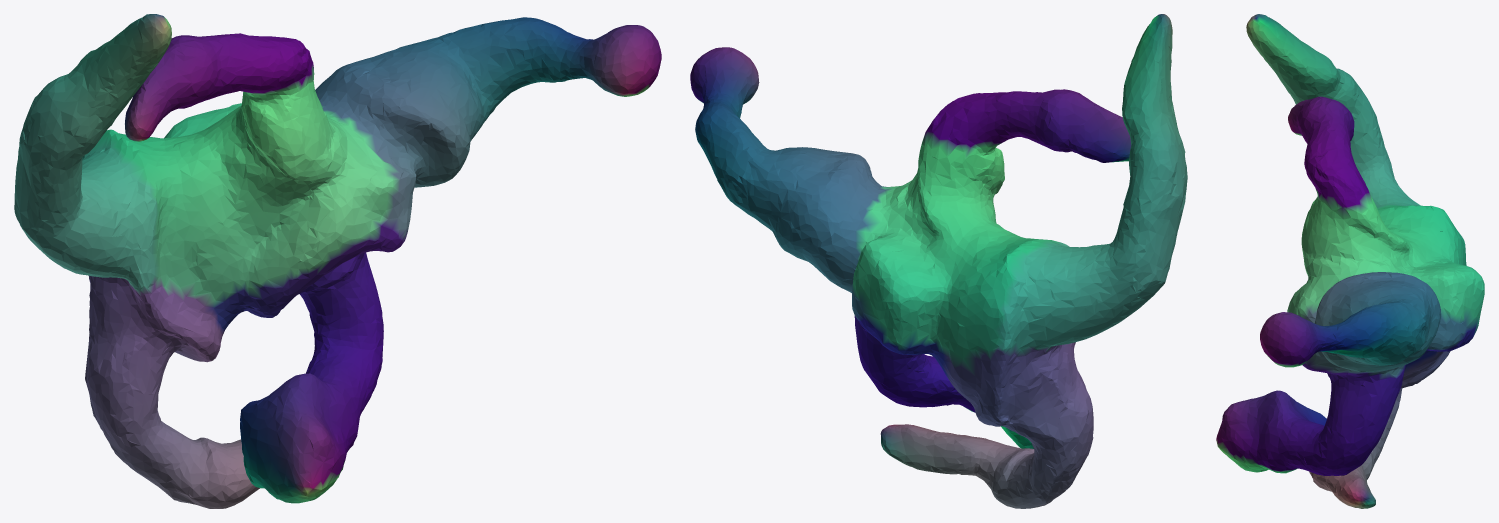
The model's file is santa-16.off.obj.
The picture shows the model from 3 angles, left to right: view 1: azimuth 30°, elevation 25°; view 2: azimuth 150°, elevation 25°; view 3: azimuth 270°, elevation 25°; orthographic projection. The views are drawn at different scales.
Size of the model in its own units: 1.41 by 1.26 by 0.71.
